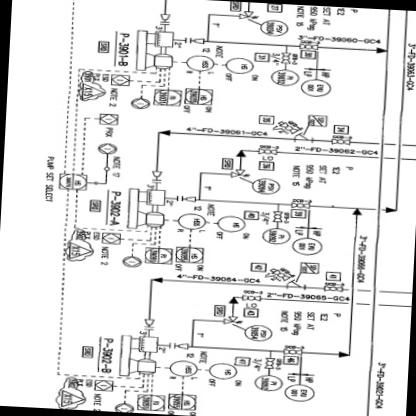LMI: (298, 78, 332, 98), (282, 383, 316, 403), (248, 177, 281, 197), (290, 236, 322, 256), (269, 68, 301, 88), (222, 55, 254, 75), (258, 18, 289, 38), (260, 226, 292, 245), (251, 374, 283, 393), (174, 211, 205, 230), (242, 324, 274, 342), (215, 214, 245, 233), (184, 53, 214, 72), (207, 362, 236, 380), (167, 360, 196, 376)
TAG: (181, 88, 214, 106), (142, 247, 173, 266), (166, 392, 196, 410), (151, 88, 181, 106), (173, 247, 203, 264), (135, 394, 164, 411), (57, 173, 86, 190)
